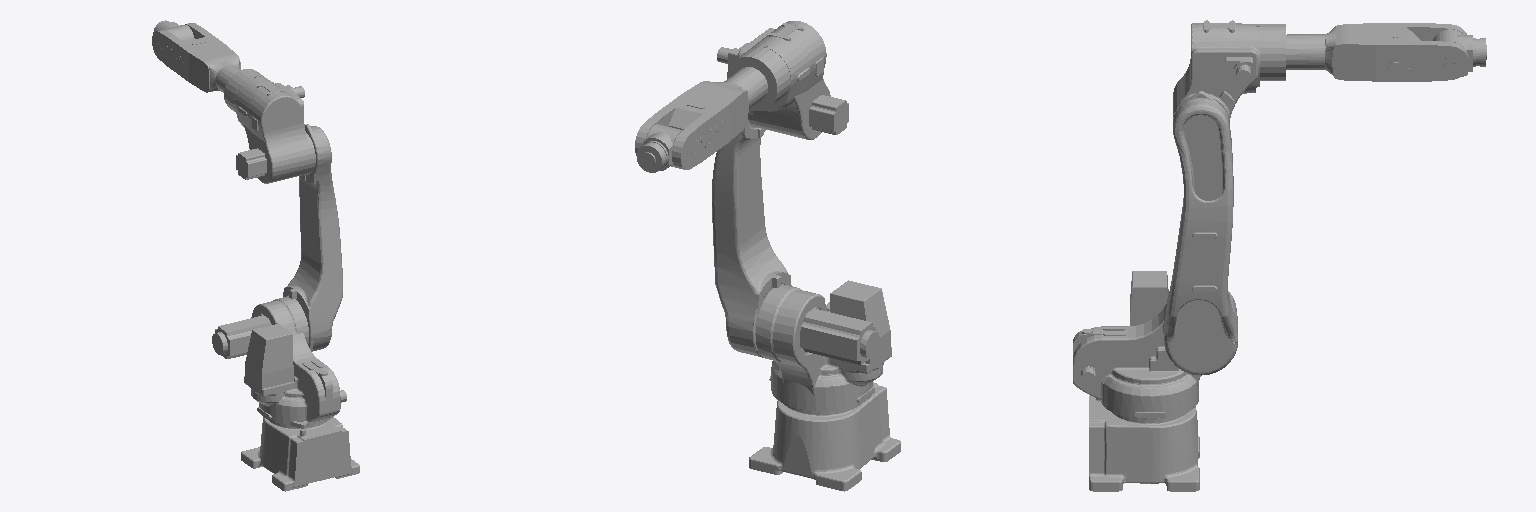
robot.urdf — ra610_1476:
<?xml version="1.0" ?>
<!-- =================================================================================== -->
<!-- |    This document was autogenerated by xacro from /ros_ws/src/hiwin_ros/hiwin_description/urdf/ra.urdf.xacro | -->
<!-- |    EDITING THIS FILE BY HAND IS NOT RECOMMENDED                                 | -->
<!-- =================================================================================== -->
<robot name="ra610_1476">
    <!-- create link fixed to the "world" -->
    <link name="world" />
    <link name="base_link">
        <visual>
            <origin rpy="0 0 0" xyz="0 0 0" />
            <geometry>
                <mesh filename="package://hiwin_description/meshes/ra610_1476/visual/base.stl" scale="1 1 1" />
            </geometry>
            <material name="LightGrey">
                <color rgba="0.7 0.7 0.7 1.0" />
            </material>
        </visual>
        <collision>
            <origin rpy="0 0 0" xyz="0 0 0" />
            <geometry>
                <mesh filename="package://hiwin_description/meshes/ra610_1476/collision/base.stl" scale="1 1 1" />
            </geometry>
        </collision>
        <inertial>
            <mass value="0.1" />
            <origin xyz="0 0 0" rpy="0 0 0" />
            <inertia ixx="0.03" iyy="0.03" izz="0.03" ixy="0.0" ixz="0.0" iyz="0.0" />
        </inertial>
    </link>
    <link name="link_1">
        <visual>
            <origin rpy="0 0 0" xyz="0 0 0" />
            <geometry>
                <mesh filename="package://hiwin_description/meshes/ra610_1476/visual/link_1.stl" scale="1 1 1" />
            </geometry>
            <material name="LightGrey">
                <color rgba="0.7 0.7 0.7 1.0" />
            </material>
        </visual>
        <collision>
            <origin rpy="0 0 0" xyz="0 0 0" />
            <geometry>
                <mesh filename="package://hiwin_description/meshes/ra610_1476/collision/link_1.stl" scale="1 1 1" />
            </geometry>
        </collision>
        <inertial>
            <mass value="0.1" />
            <origin xyz="0 0 0" rpy="0 0 0" />
            <inertia ixx="0.03" iyy="0.03" izz="0.03" ixy="0.0" ixz="0.0" iyz="0.0" />
        </inertial>
    </link>
    <link name="link_2">
        <visual>
            <origin rpy="0 0 0" xyz="0 0 0" />
            <geometry>
                <mesh filename="package://hiwin_description/meshes/ra610_1476/visual/link_2.stl" scale="1 1 1" />
            </geometry>
            <material name="LightGrey">
                <color rgba="0.7 0.7 0.7 1.0" />
            </material>
        </visual>
        <collision>
            <origin rpy="0 0 0" xyz="0 0 0" />
            <geometry>
                <mesh filename="package://hiwin_description/meshes/ra610_1476/collision/link_2.stl" scale="1 1 1" />
            </geometry>
        </collision>
        <inertial>
            <mass value="0.1" />
            <origin xyz="0 0 0" rpy="0 0 0" />
            <inertia ixx="0.03" iyy="0.03" izz="0.03" ixy="0.0" ixz="0.0" iyz="0.0" />
        </inertial>
    </link>
    <link name="link_3">
        <visual>
            <origin rpy="0 0 0" xyz="0 0 0" />
            <geometry>
                <mesh filename="package://hiwin_description/meshes/ra610_1476/visual/link_3.stl" scale="1 1 1" />
            </geometry>
            <material name="LightGrey">
                <color rgba="0.7 0.7 0.7 1.0" />
            </material>
        </visual>
        <collision>
            <origin rpy="0 0 0" xyz="0 0 0" />
            <geometry>
                <mesh filename="package://hiwin_description/meshes/ra610_1476/collision/link_3.stl" scale="1 1 1" />
            </geometry>
        </collision>
        <inertial>
            <mass value="0.1" />
            <origin xyz="0 0 0" rpy="0 0 0" />
            <inertia ixx="0.03" iyy="0.03" izz="0.03" ixy="0.0" ixz="0.0" iyz="0.0" />
        </inertial>
    </link>
    <link name="link_4">
        <visual>
            <origin rpy="0 0 0" xyz="0 0 0" />
            <geometry>
                <mesh filename="package://hiwin_description/meshes/ra610_1476/visual/link_4.stl" scale="1 1 1" />
            </geometry>
            <material name="LightGrey">
                <color rgba="0.7 0.7 0.7 1.0" />
            </material>
        </visual>
        <collision>
            <origin rpy="0 0 0" xyz="0 0 0" />
            <geometry>
                <mesh filename="package://hiwin_description/meshes/ra610_1476/collision/link_4.stl" scale="1 1 1" />
            </geometry>
        </collision>
        <inertial>
            <mass value="0.1" />
            <origin xyz="0 0 0" rpy="0 0 0" />
            <inertia ixx="0.03" iyy="0.03" izz="0.03" ixy="0.0" ixz="0.0" iyz="0.0" />
        </inertial>
    </link>
    <link name="link_5">
        <visual>
            <origin rpy="0 0 0" xyz="0 0 0" />
            <geometry>
                <mesh filename="package://hiwin_description/meshes/ra610_1476/visual/link_5.stl" scale="1 1 1" />
            </geometry>
            <material name="LightGrey">
                <color rgba="0.7 0.7 0.7 1.0" />
            </material>
        </visual>
        <collision>
            <origin rpy="0 0 0" xyz="0 0 0" />
            <geometry>
                <mesh filename="package://hiwin_description/meshes/ra610_1476/collision/link_5.stl" scale="1 1 1" />
            </geometry>
        </collision>
        <inertial>
            <mass value="0.1" />
            <origin xyz="0 0 0" rpy="0 0 0" />
            <inertia ixx="0.03" iyy="0.03" izz="0.03" ixy="0.0" ixz="0.0" iyz="0.0" />
        </inertial>
    </link>
    <link name="link_6">
        <visual>
            <origin rpy="0 0 0" xyz="0 0 0" />
            <geometry>
                <mesh filename="package://hiwin_description/meshes/ra610_1476/visual/link_6.stl" scale="1 1 1" />
            </geometry>
            <material name="LightGrey">
                <color rgba="0.7 0.7 0.7 1.0" />
            </material>
        </visual>
        <collision>
            <origin rpy="0 0 0" xyz="0 0 0" />
            <geometry>
                <mesh filename="package://hiwin_description/meshes/ra610_1476/collision/link_6.stl" scale="1 1 1" />
            </geometry>
        </collision>
        <inertial>
            <mass value="0.1" />
            <origin xyz="0 0 0" rpy="0 0 0" />
            <inertia ixx="0.03" iyy="0.03" izz="0.03" ixy="0.0" ixz="0.0" iyz="0.0" />
        </inertial>
    </link>
    <!-- base_joint fixes base_link to the environment -->
    <joint name="base_joint" type="fixed">
        <origin rpy="0 0 0" xyz="0 0 0" />
        <parent link="world" />
        <child link="base_link" />
    </joint>
    <!-- joints - main serial chain -->
    <joint name="joint_1" type="revolute">
        <origin rpy="0 0 0" xyz="0 0 0.4485" />
        <parent link="base_link" />
        <child link="link_1" />
        <axis xyz="0 0 1" />
        <limit effort="888.345" lower="-2.9670597283903604" upper="2.9670597283903604" velocity="1.3438337108655538" />
    </joint>
    <joint name="joint_2" type="revolute">
        <origin rpy="0 0 0" xyz="0 0.14 0" />
        <parent link="link_1" />
        <child link="link_2" />
        <axis xyz="1 0 0" />
        <limit effort="829.997" lower="-2.6179938779914944" upper="1.6580627893946132" velocity="1.4383432898610469" />
    </joint>
    <joint name="joint_3" type="revolute">
        <origin rpy="0 0 0" xyz="0 0 0.64" />
        <parent link="link_2" />
        <child link="link_3" />
        <axis xyz="1 0 0" />
        <limit effort="392.127" lower="-1.4835298641951802" upper="3.2288591161895095" velocity="1.9147832690704591" />
    </joint>
    <joint name="joint_4" type="revolute">
        <origin rpy="0 0 0" xyz="0 0 0.16" />
        <parent link="link_3" />
        <child link="link_4" />
        <axis xyz="0 1 0" />
        <limit effort="51.597" lower="-3.3161255787892263" upper="3.3161255787892263" velocity="3.878505570366839" />
    </joint>
    <joint name="joint_5" type="revolute">
        <origin rpy="0 0 0" xyz="0 0.678 0" />
        <parent link="link_4" />
        <child link="link_5" />
        <axis xyz="1 0 0" />
        <limit effort="25.44" lower="-2.356194490192345" upper="2.356194490192345" velocity="3.9269908169872414" />
    </joint>
    <joint name="joint_6" type="revolute">
        <origin rpy="0 0 0" xyz="0 0.101 0" />
        <parent link="link_5" />
        <child link="link_6" />
        <axis xyz="0 1 0" />
        <limit effort="15.9" lower="-6.283185307179586" upper="6.283185307179586" velocity="6.283185307179586" />
    </joint>
    <!-- ROS-Industrial 'base' frame - base_link to HIWIN 'Base' Coordinates transform -->
    <link name="base" />
    <joint name="base_link-base_fixed_joint" type="fixed">
        <!-- Note the rotation over Z of pi radians - as base_link is REP-103
           aligned (i.e., has X+ forward, Y+ left and Z+ up), this is needed
           to correctly align 'base' with the 'Base' coordinate system of
           the HIWIN controller.
      -->
        <origin rpy="0 0 0" xyz="0 0 0.4485" />
        <parent link="base_link" />
        <child link="base" />
    </joint>
    <!-- ROS-Industrial 'flange' frame - attachment point for EEF models -->
    <link name="flange" />
    <joint name="flange" type="fixed">
        <parent link="link_6" />
        <child link="flange" />
        <origin rpy="0 0 0" xyz="0 0 0" />
    </joint>
    <!-- ROS-Industrial 'tool0' frame - all-zeros tool frame -->
    <link name="tool0" />
    <joint name="flange-tool0" type="fixed">
        <!-- default toolframe - X+ left, Y+ up, Z+ front -->
        <origin rpy="0 0 0" xyz="0 0 0" />
        <parent link="flange" />
        <child link="tool0" />
    </joint>
    <transmission name="trans_joint_1">
        <type>transmission_interface/SimpleTransmission</type>
        <joint name="joint_1">
            <hardwareInterface>hardware_interface/EffortJointInterface</hardwareInterface>
        </joint>
        <actuator name="joint_1_motor">
            <hardwareInterface>hardware_interface/EffortJointInterface</hardwareInterface>
            <mechanicalReduction>1</mechanicalReduction>
        </actuator>
    </transmission>
    <transmission name="trans_joint_2">
        <type>transmission_interface/SimpleTransmission</type>
        <joint name="joint_2">
            <hardwareInterface>hardware_interface/EffortJointInterface</hardwareInterface>
        </joint>
        <actuator name="joint_2_motor">
            <hardwareInterface>hardware_interface/EffortJointInterface</hardwareInterface>
            <mechanicalReduction>1</mechanicalReduction>
        </actuator>
    </transmission>
    <transmission name="trans_joint_3">
        <type>transmission_interface/SimpleTransmission</type>
        <joint name="joint_3">
            <hardwareInterface>hardware_interface/EffortJointInterface</hardwareInterface>
        </joint>
        <actuator name="joint_3_motor">
            <hardwareInterface>hardware_interface/EffortJointInterface</hardwareInterface>
            <mechanicalReduction>1</mechanicalReduction>
        </actuator>
    </transmission>
    <transmission name="trans_joint_4">
        <type>transmission_interface/SimpleTransmission</type>
        <joint name="joint_4">
            <hardwareInterface>hardware_interface/EffortJointInterface</hardwareInterface>
        </joint>
        <actuator name="joint_4_motor">
            <hardwareInterface>hardware_interface/EffortJointInterface</hardwareInterface>
            <mechanicalReduction>1</mechanicalReduction>
        </actuator>
    </transmission>
    <transmission name="trans_joint_5">
        <type>transmission_interface/SimpleTransmission</type>
        <joint name="joint_5">
            <hardwareInterface>hardware_interface/EffortJointInterface</hardwareInterface>
        </joint>
        <actuator name="joint_5_motor">
            <hardwareInterface>hardware_interface/EffortJointInterface</hardwareInterface>
            <mechanicalReduction>1</mechanicalReduction>
        </actuator>
    </transmission>
    <transmission name="trans_joint_6">
        <type>transmission_interface/SimpleTransmission</type>
        <joint name="joint_6">
            <hardwareInterface>hardware_interface/EffortJointInterface</hardwareInterface>
        </joint>
        <actuator name="joint_6_motor">
            <hardwareInterface>hardware_interface/EffortJointInterface</hardwareInterface>
            <mechanicalReduction>1</mechanicalReduction>
        </actuator>
    </transmission>
    <gazebo>
        <plugin name="gazebo_ros_control" filename="libgazebo_ros_control.so">
            <robotNamespace>/</robotNamespace>
        </plugin>
    </gazebo>
</robot>

--- Facts derived from the render (not from the file) ---
Views: 3 orthographic renders of the robot side by side, from view 1: azimuth 30°, elevation 25°; view 2: azimuth 150°, elevation 25°; view 3: azimuth 270°, elevation 25°.
Model ra610_1476 with 11 links and 10 joints (6 revolute, 4 fixed), rooted at world, posed all joints at 0.
Links seen in each view (by area): view 1: link_1, link_2, link_3, base_link, link_4; view 2: link_1, link_2, base_link, link_4, link_3, link_5, link_6; view 3: link_2, link_1, link_4, base_link, link_3, link_5.
Link boxes in pixels (x1,y1,x2,y2): link_1: (212, 296, 346, 428); link_2: (283, 124, 342, 351); link_3: (234, 76, 315, 183); base_link: (241, 417, 359, 491); link_4: (152, 23, 264, 111); link_1: (755, 280, 891, 414); link_2: (712, 120, 791, 357); base_link: (749, 382, 900, 491); link_4: (635, 47, 790, 169); link_3: (717, 21, 848, 139); link_5: (643, 124, 682, 170); link_6: (637, 143, 664, 172); link_2: (1164, 91, 1237, 375); link_1: (1073, 271, 1237, 422); link_4: (1260, 23, 1468, 81); base_link: (1089, 396, 1199, 491); link_3: (1173, 20, 1259, 121); link_5: (1433, 29, 1479, 71).
Bounding box of the posed robot: 0.4548 × 1.13 × 1.33 m (x, y, z).
7 mesh visuals loaded from 7 distinct referenced files (7 binary STL).
